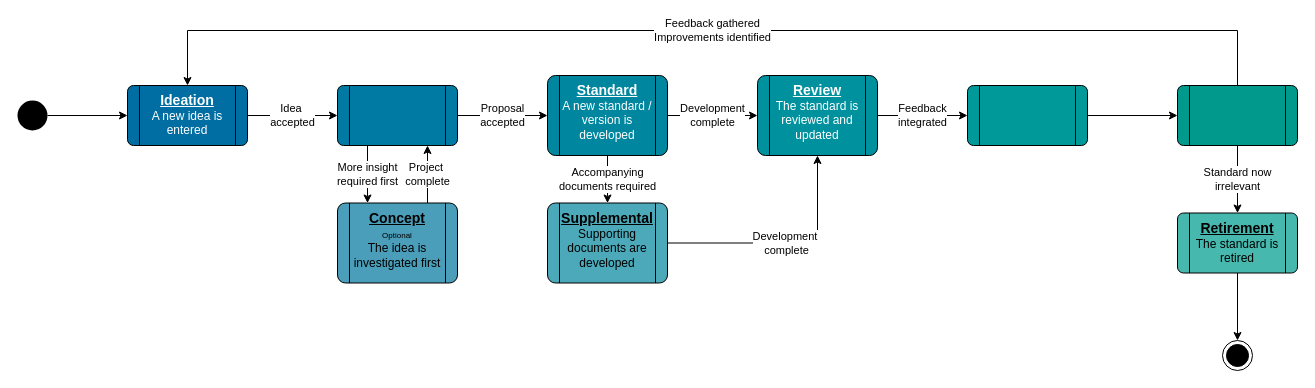
This 1315x388 diagram has some shape labels left out. Each missing label, with the centre of its shape:
"Proposal A proposal is crafted" goes at (397,115).
"Public The standard is public" goes at (1237,115).
"Release The standard is released" goes at (1027,115).
